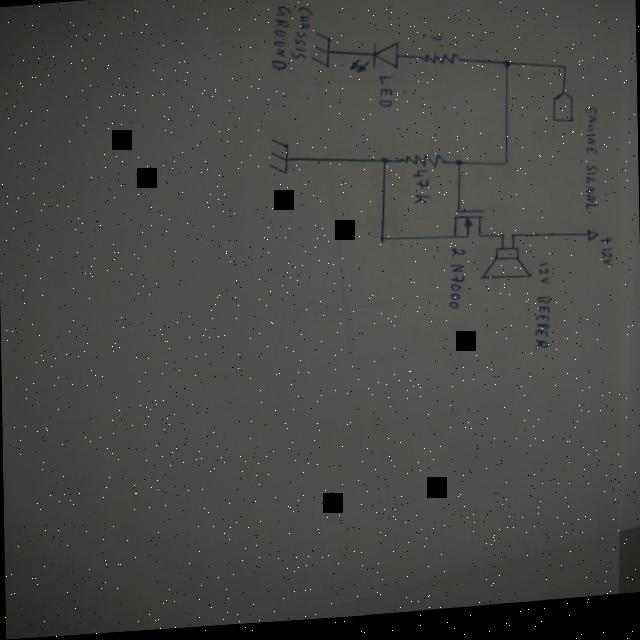diode: (347, 43, 401, 78)
ground: (311, 34, 334, 72), (268, 139, 290, 177)
junction: (498, 64, 512, 75), (378, 238, 390, 248), (378, 160, 390, 169), (500, 165, 510, 173), (454, 164, 464, 171), (509, 237, 519, 244), (498, 238, 507, 245), (558, 70, 568, 76)
resistor: (401, 156, 446, 175), (418, 56, 464, 72)
source: (584, 236, 600, 247)
terminal: (550, 97, 576, 130)
text: (582, 112, 601, 218), (270, 8, 294, 73), (447, 250, 468, 315), (290, 9, 313, 63), (532, 301, 554, 357), (411, 172, 432, 209), (378, 78, 397, 114), (597, 244, 615, 275), (537, 267, 551, 291), (419, 36, 444, 47)
transistor: (450, 212, 487, 246)
